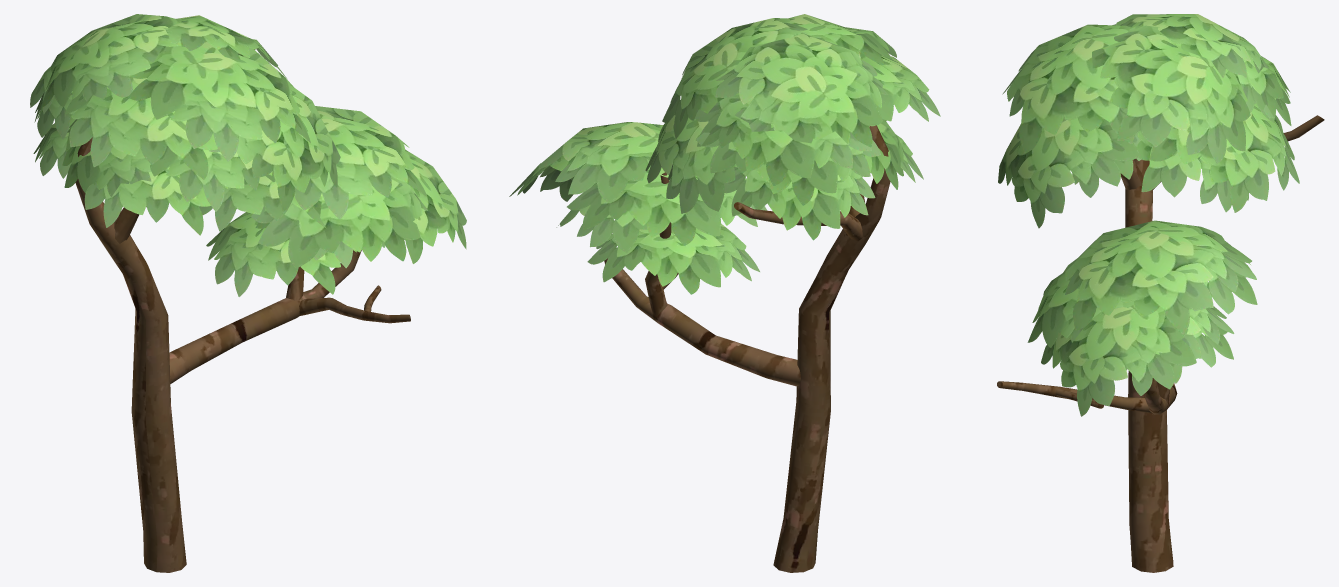
File: tree_6.glb
3 renders of one model, left to right at view 1: azimuth 30°, elevation 25°; view 2: azimuth 150°, elevation 25°; view 3: azimuth 270°, elevation 25°, orthographic.
Parts seen in each view (by area): view 1: Tree_6; view 2: Tree_6; view 3: Tree_6.
Part boxes in pixels (x1,y1,x2,y2): Tree_6: (30, 14, 466, 572); Tree_6: (509, 14, 940, 572); Tree_6: (997, 14, 1324, 572).
Size of the model in its own units: 6.84 by 8.38 by 4.8.
Materials: 2 (2 with a texture image).
